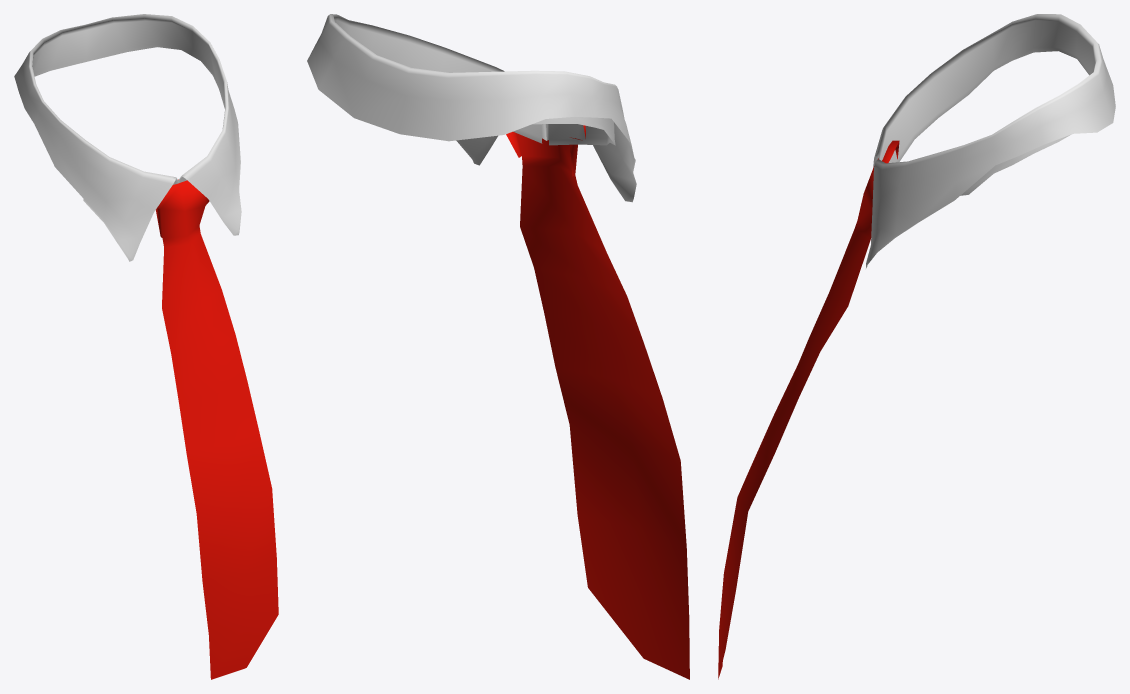
File: NeckTie.fbx
3 renders of one model, left to right at view 1: azimuth 30°, elevation 25°; view 2: azimuth 150°, elevation 25°; view 3: azimuth 270°, elevation 25°, orthographic. The views are drawn at different scales.
Parts seen in each view (by area): view 1: m_suit_01Mesh_0.001, m_suit_01Mesh_0.002; view 2: m_suit_01Mesh_0.001, m_suit_01Mesh_0.002; view 3: m_suit_01Mesh_0.002, m_suit_01Mesh_0.001.
Boxes of the visible parts, x1=… form: m_suit_01Mesh_0.001: x1=156, y1=179, x2=278, y2=679; m_suit_01Mesh_0.002: x1=14, y1=14, x2=241, y2=261; m_suit_01Mesh_0.001: x1=506, y1=125, x2=689, y2=679; m_suit_01Mesh_0.002: x1=307, y1=14, x2=636, y2=202; m_suit_01Mesh_0.002: x1=866, y1=14, x2=1115, y2=268; m_suit_01Mesh_0.001: x1=718, y1=140, x2=899, y2=679.
Size of the model in its own units: 11.39 by 30.62 by 17.47.
